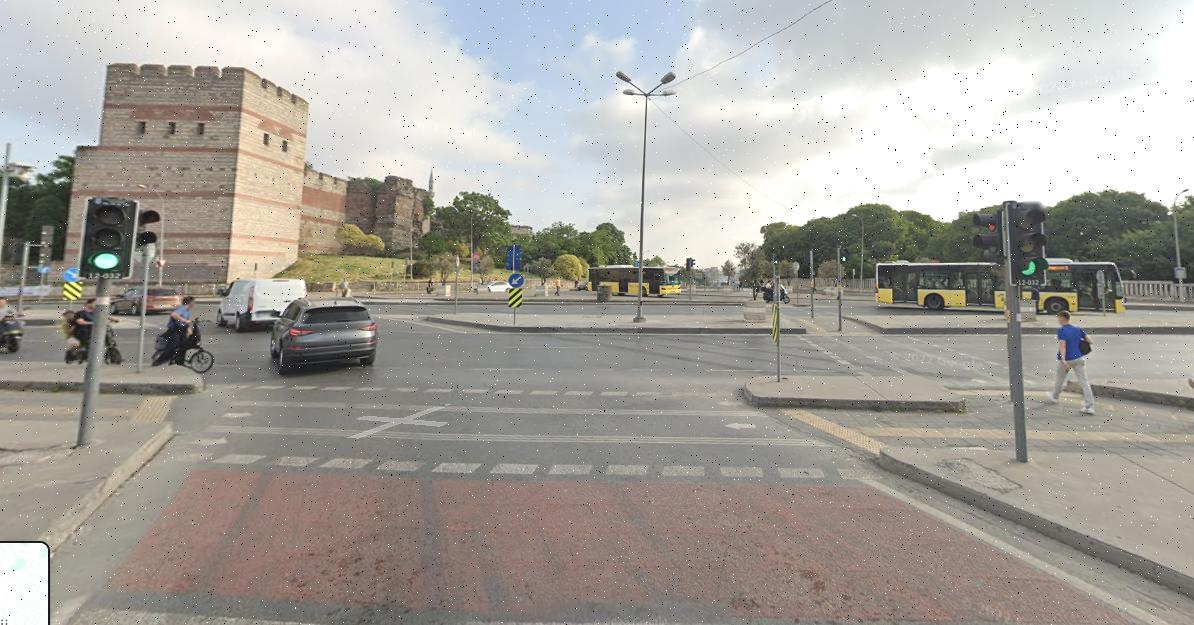greenlight: (81, 196, 134, 277), (1007, 202, 1049, 278)
